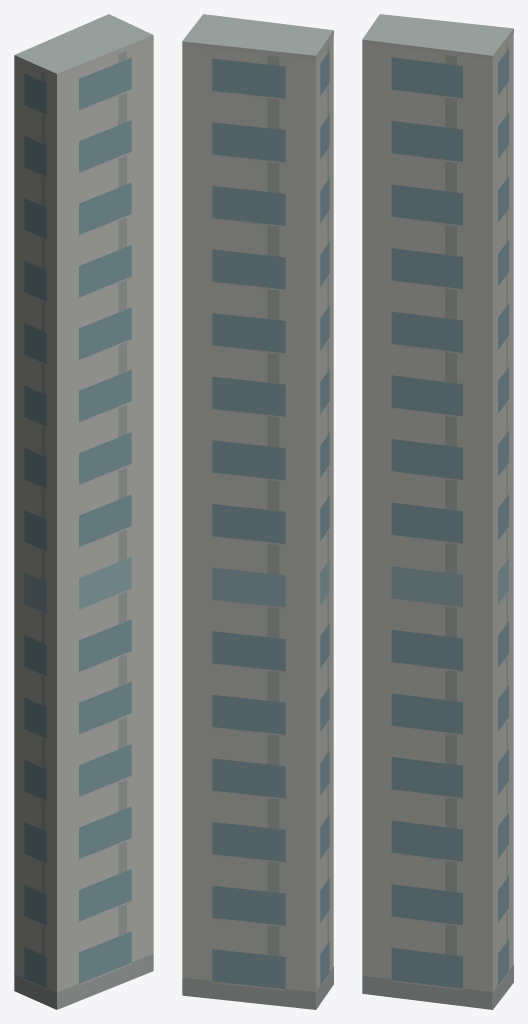
Rendered from survey-upis-32543571.glb.
3 views of the same model, side by side, from view 1: azimuth 30°, elevation 25°; view 2: azimuth 150°, elevation 25°; view 3: azimuth 330°, elevation 25° (orthographic).
Visible parts, largest first — view 1: survey-upis-32543571.tmp; view 2: survey-upis-32543571.tmp; view 3: survey-upis-32543571.tmp.
Boxes of the visible parts, box(x1,y1,x2,y2) form: survey-upis-32543571.tmp: box(14, 14, 153, 1009); survey-upis-32543571.tmp: box(182, 14, 333, 1009); survey-upis-32543571.tmp: box(362, 14, 513, 1009).
Bounding box in the file's own units: 6.4 × 45.75 × 4.29.
